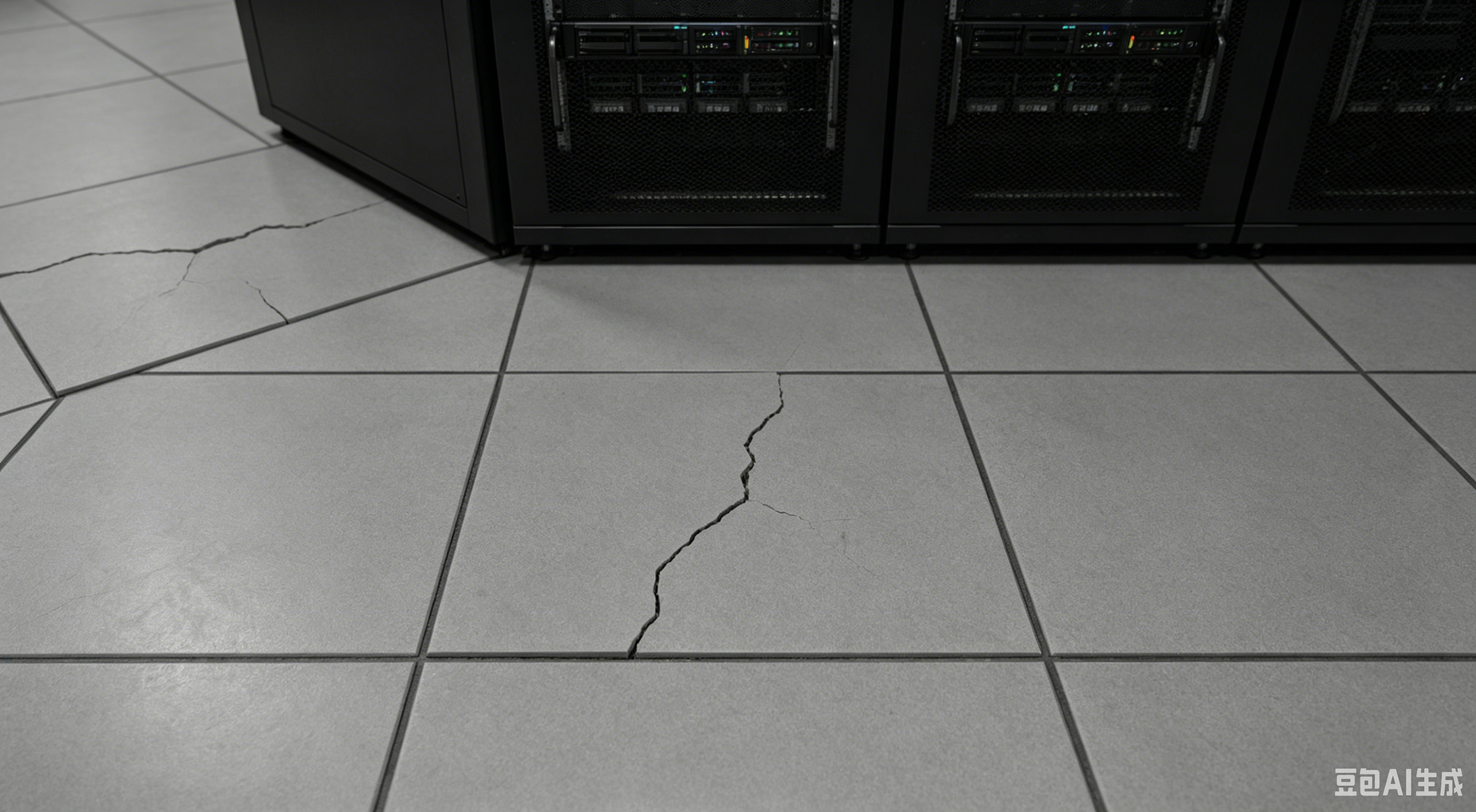floor_defect: (628, 475, 734, 666), (737, 372, 833, 556), (0, 234, 309, 291), (215, 207, 414, 243)
